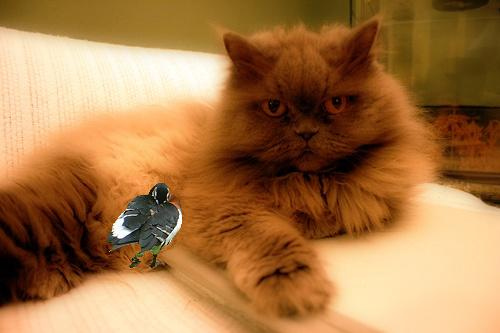tampered: (109, 184, 182, 268)
